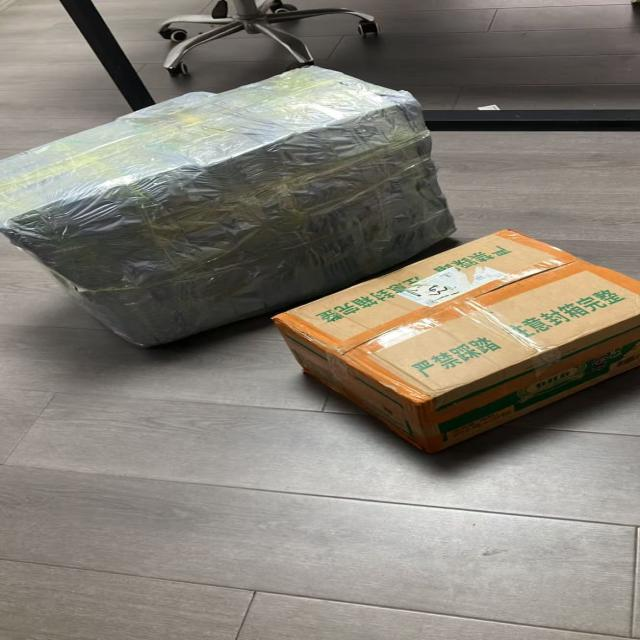carton_box: (276, 234, 640, 448)
package_damage: (469, 253, 603, 297)
